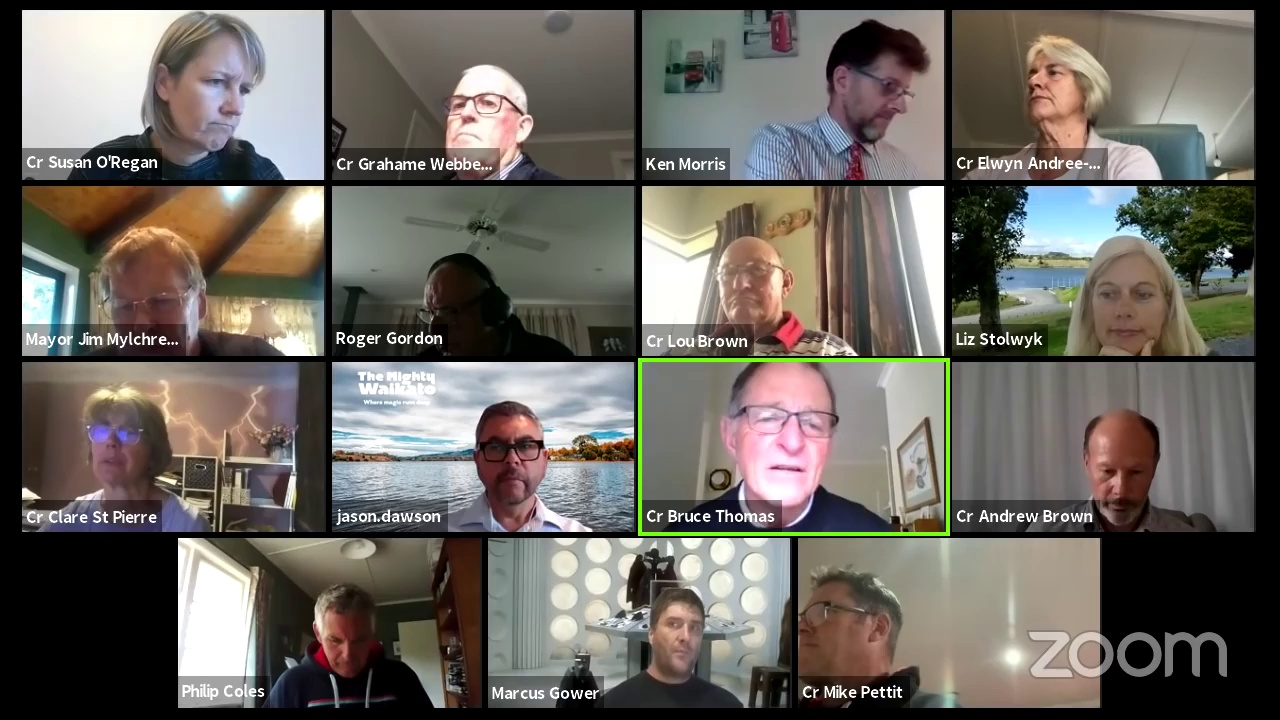Distracted: (810, 23, 938, 152), (802, 576, 908, 679), (1016, 30, 1108, 130), (1084, 414, 1162, 523), (416, 258, 506, 351), (306, 592, 377, 680)
Not Distracted: (717, 366, 840, 521), (157, 30, 262, 148), (1075, 250, 1175, 350), (98, 235, 201, 332), (463, 401, 551, 510), (708, 233, 808, 328), (80, 385, 166, 488), (440, 71, 527, 151), (643, 600, 712, 679)
